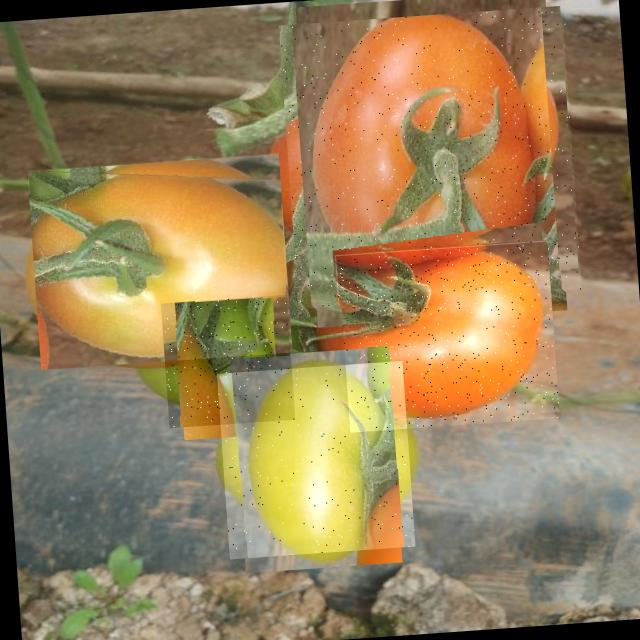Ripe Tomato: (279, 6, 584, 311), (338, 243, 560, 432)
Unripe Tomato: (28, 153, 292, 370), (216, 360, 415, 559), (160, 294, 294, 428)
